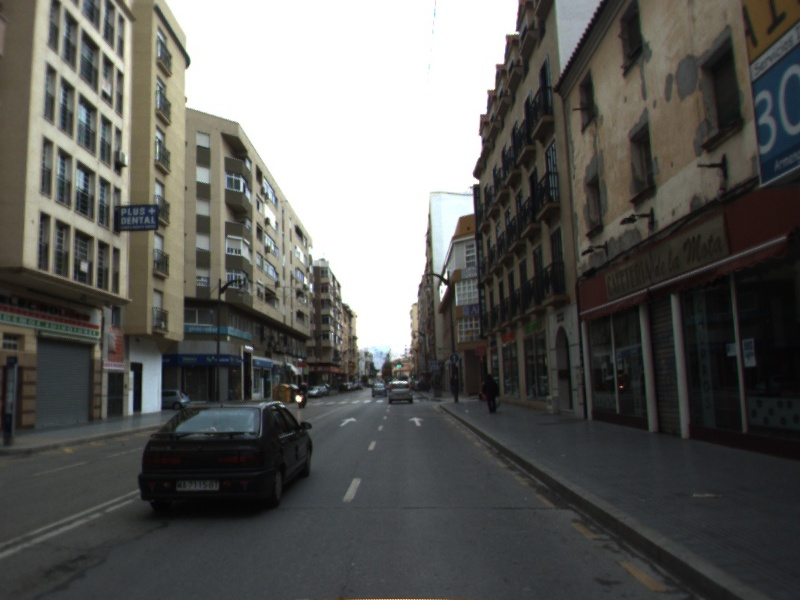STRAIGHT: (337, 415, 359, 428), (407, 415, 426, 428)
